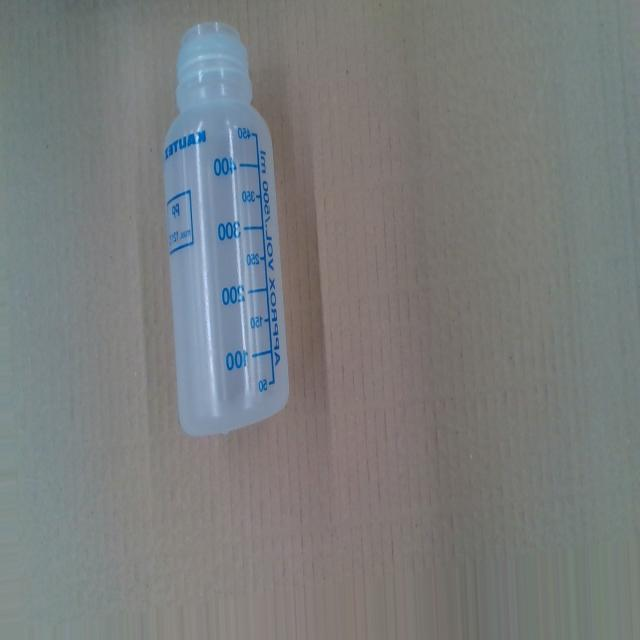bottle: (162, 18, 293, 438)
